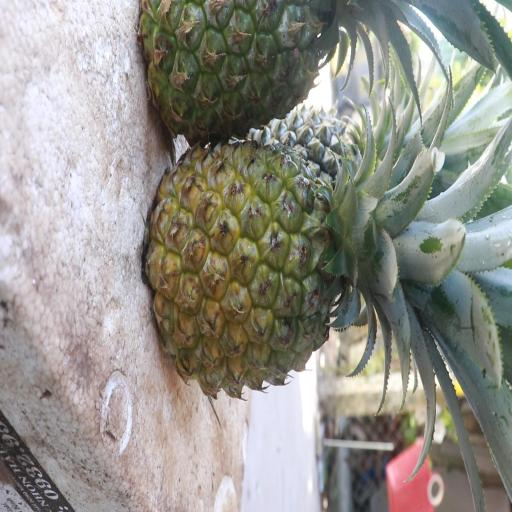------------------------------: (140, 0, 392, 138)
Pineapple - v8 v1: (151, 134, 401, 396)
